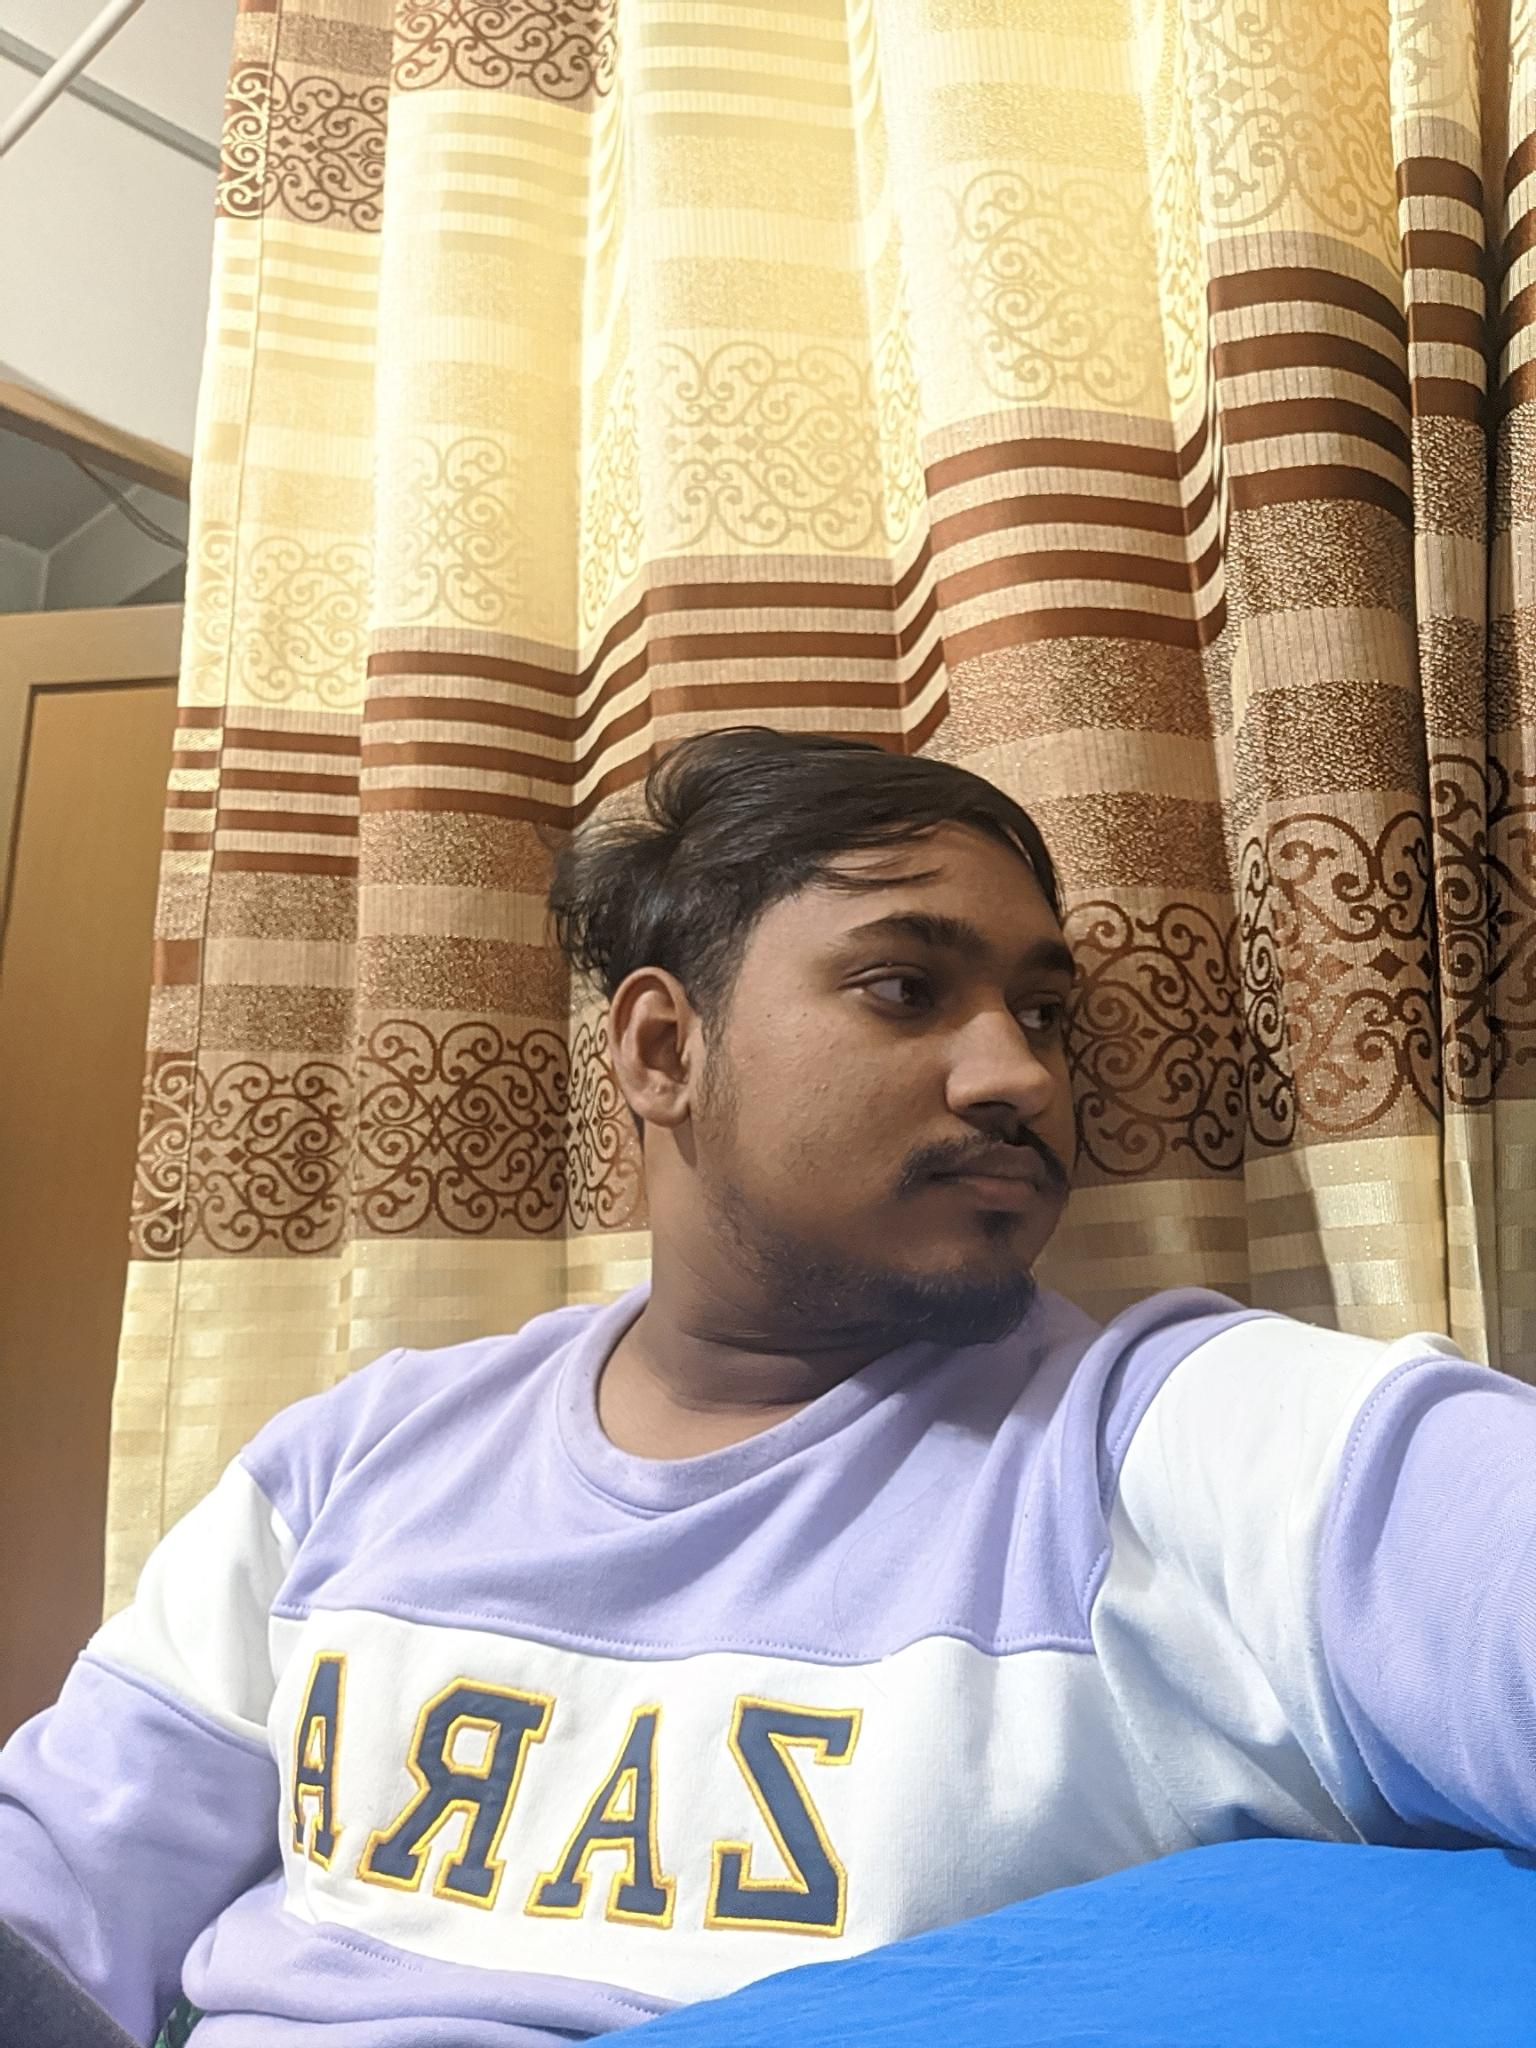Neutral: (779, 880, 1120, 1314)
